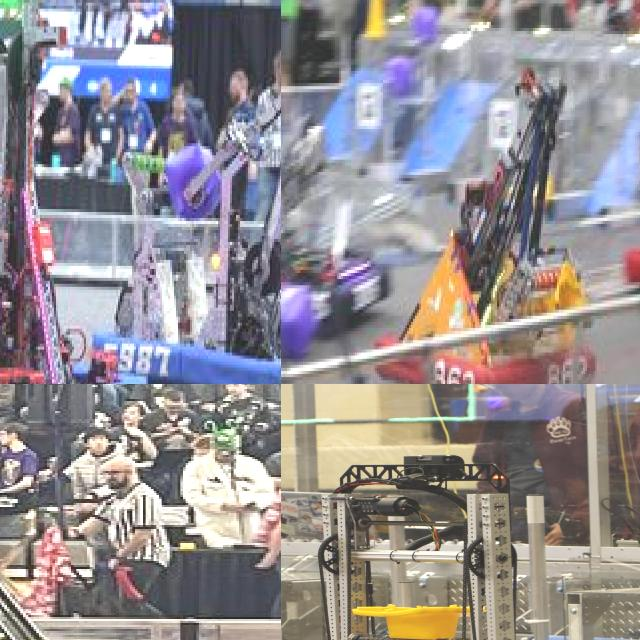FRC-Robots: (100, 22, 281, 384), (281, 473, 640, 640), (0, 0, 147, 384), (442, 84, 594, 384), (281, 142, 391, 324), (0, 514, 95, 640)
